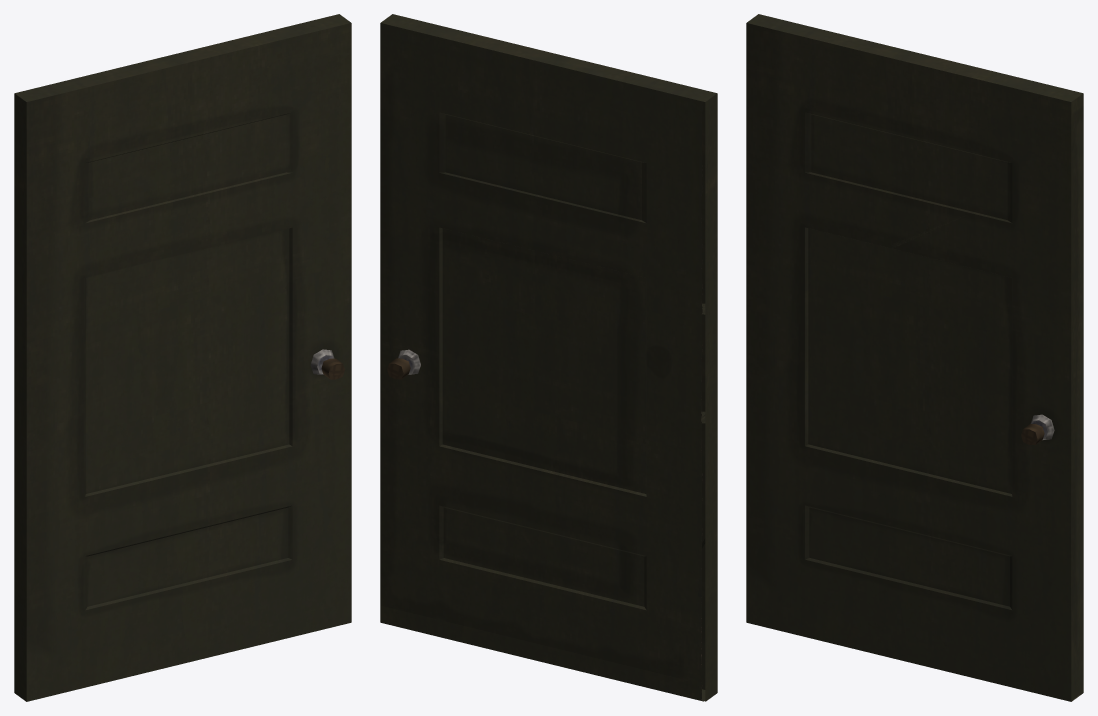
File: brokendoor.fbx
3 renders of one model, left to right at view 1: azimuth 30°, elevation 25°; view 2: azimuth 150°, elevation 25°; view 3: azimuth 330°, elevation 25°, orthographic.
Parts seen in each view (by area): view 1: door.012, door.015, door.003, door.004, door.002, door.009, door, door.013, door.008, door.005, door.001, door.010 (+5 smaller); view 2: door.012, door.015, door.003, door.004, door.002, door, door.009, door.013, door.008, door.010, door.005, door.006 (+5 smaller); view 3: door.012, door.015, door.003, door.004, door.002, door, door.013, door.005, door.006, door.010, door.009, door.008 (+5 smaller).
Boxes of the visible parts, x1,y1,x2,y2 form: door.012: (184,357,298,655); door.015: (14,414,197,570); door.003: (53,489,215,679); door.004: (251,410,351,646); door.002: (171,170,323,370); door.009: (14,80,86,313); door: (51,184,175,311); door.013: (140,57,264,251); door.008: (14,304,121,420); door.005: (200,219,351,396); door.001: (14,526,118,701); door.010: (68,63,164,203); door.012: (433,357,548,655); door.015: (535,412,717,576); door.003: (517,492,684,681); door.004: (380,409,480,646); door.002: (412,175,561,372); door: (556,184,686,312); door.009: (652,79,717,314); door.013: (471,55,590,254); door.008: (611,303,717,423); door.010: (568,62,669,205); door.005: (380,220,531,397); door.006: (380,89,495,249); door.012: (906,363,1018,677); door.015: (746,341,917,504); door.003: (773,493,935,668); door.004: (971,464,1083,701); door.002: (892,207,1043,369); door: (771,145,898,293); door.013: (873,44,985,243); door.005: (922,290,1083,437); door.006: (964,136,1083,309); door.010: (788,27,885,171); door.009: (746,14,811,243); door.008: (746,234,844,376).
Bounding box in the file's own units: 330 × 582 × 69.11.
